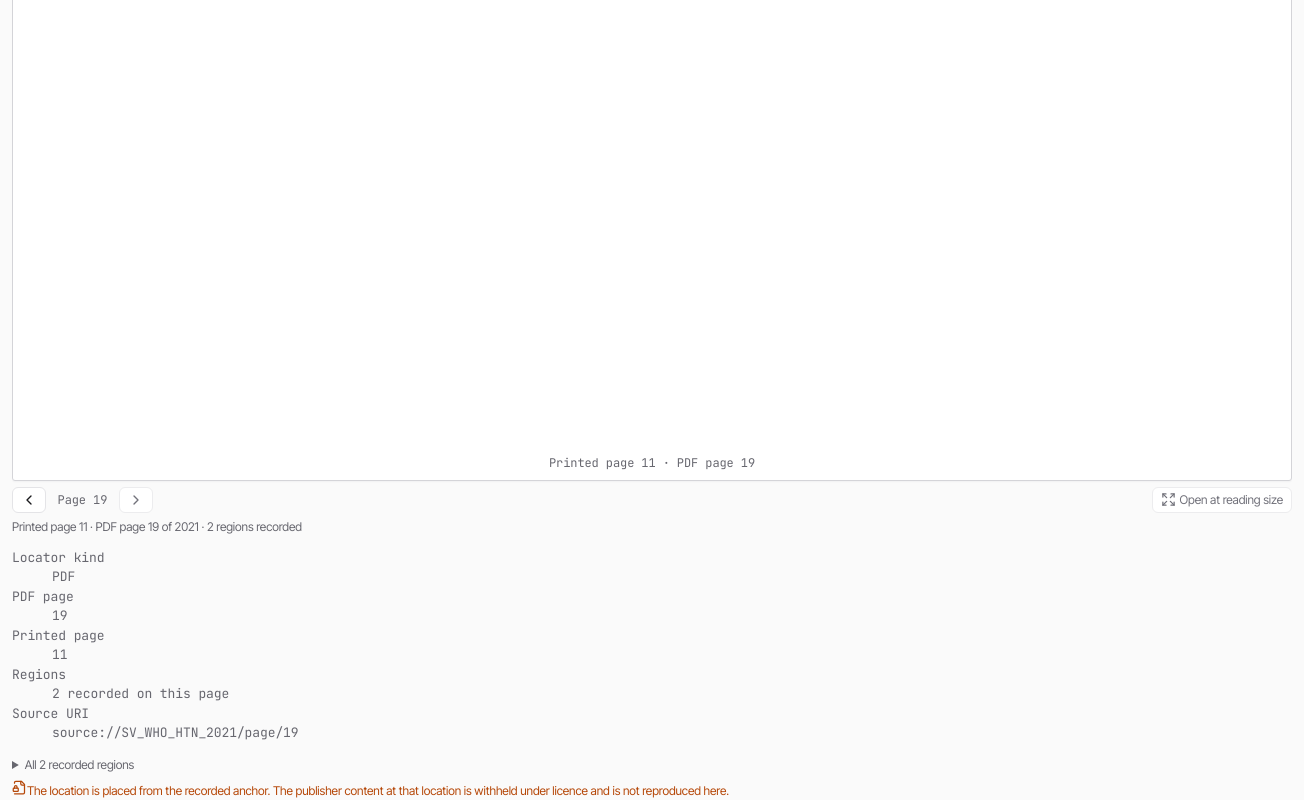
AnchorViewer, coarse and multiple anchors › keeps every recorded readout reachable when there are too many to print
(page scrolled)
Click the heading "All 2 recorded regions".
click(79, 764)  # box [25,757,134,772]
(page scrolled)
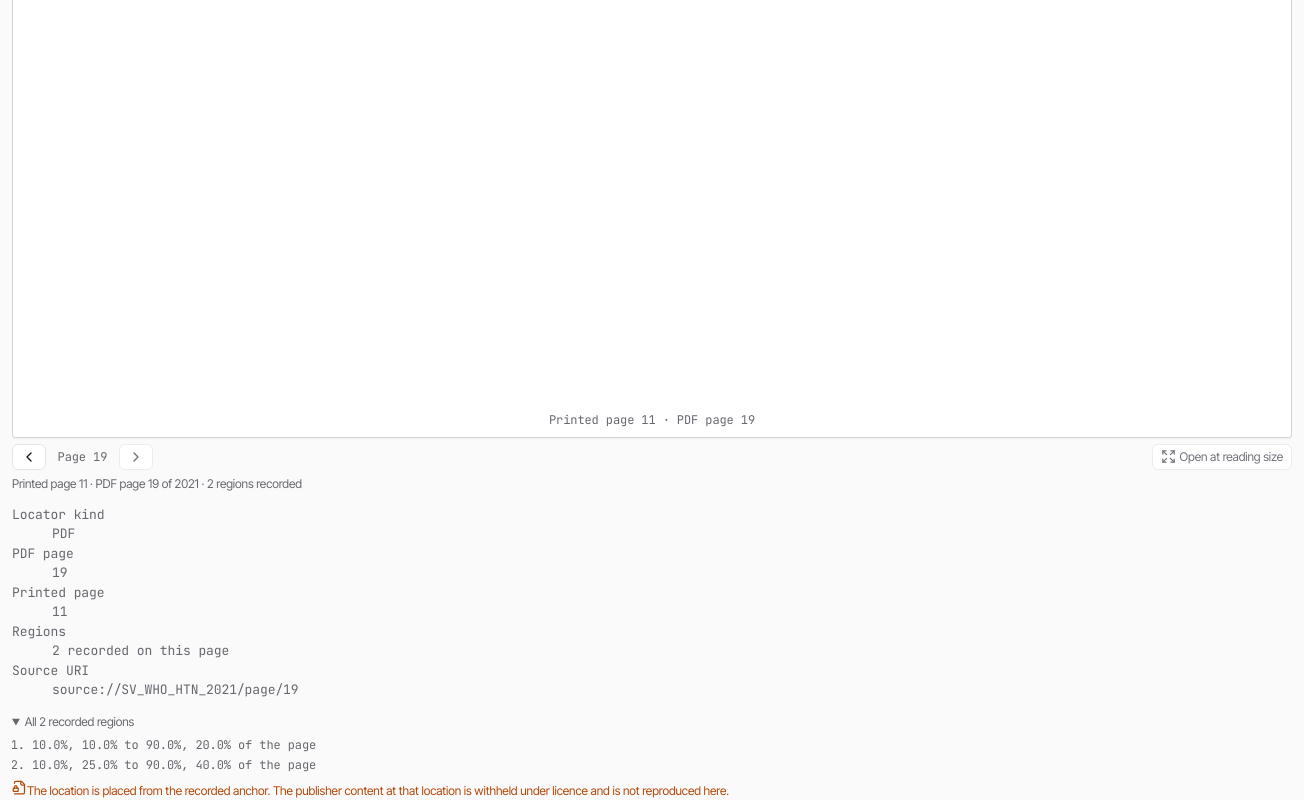
Now the list item "10.0%, 10.0% to 90.0%, 20.0% of the page" is shown, box [32,737,316,753]
Now the list item "10.0%, 25.0% to 90.0%, 40.0% of the page" is shown, box [32,757,316,773]
